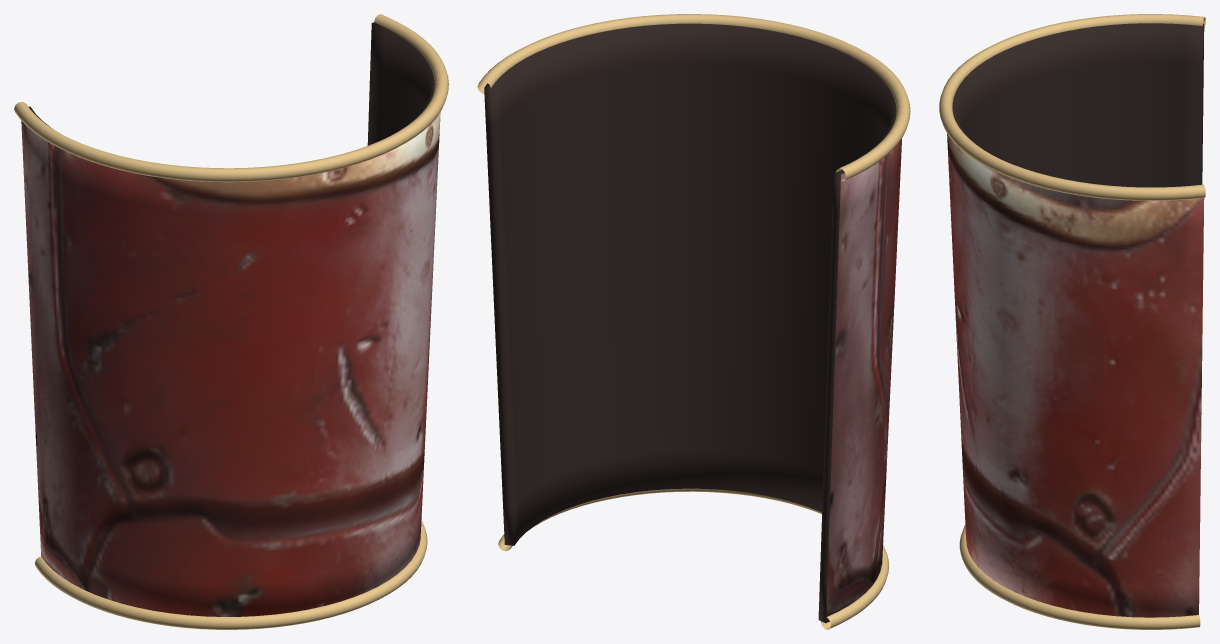
The model's file is kote-upper-procedural.glb.
3 renders of one model, left to right at view 1: azimuth 30°, elevation 25°; view 2: azimuth 150°, elevation 25°; view 3: azimuth 270°, elevation 25°, orthographic. The views are drawn at different scales.
Parts seen in each view (by area): view 1: Plate, Rim 0, Rim 1; view 2: Plate, Rim 0, Rim 1; view 3: Plate, Rim 0, Rim 1.
Part boxes in pixels (x1,y1,x2,y2): Plate: [21, 22, 440, 616]; Rim 0: [14, 14, 448, 182]; Rim 1: [35, 520, 427, 629]; Plate: [484, 23, 901, 622]; Rim 0: [477, 14, 910, 181]; Rim 1: [498, 488, 889, 629]; Plate: [947, 23, 1204, 617]; Rim 0: [939, 14, 1205, 200]; Rim 1: [959, 525, 1200, 629].
Size of the model in its own units: 0.1755 by 0.2053 by 0.1104.
3 materials, 1 textured.
